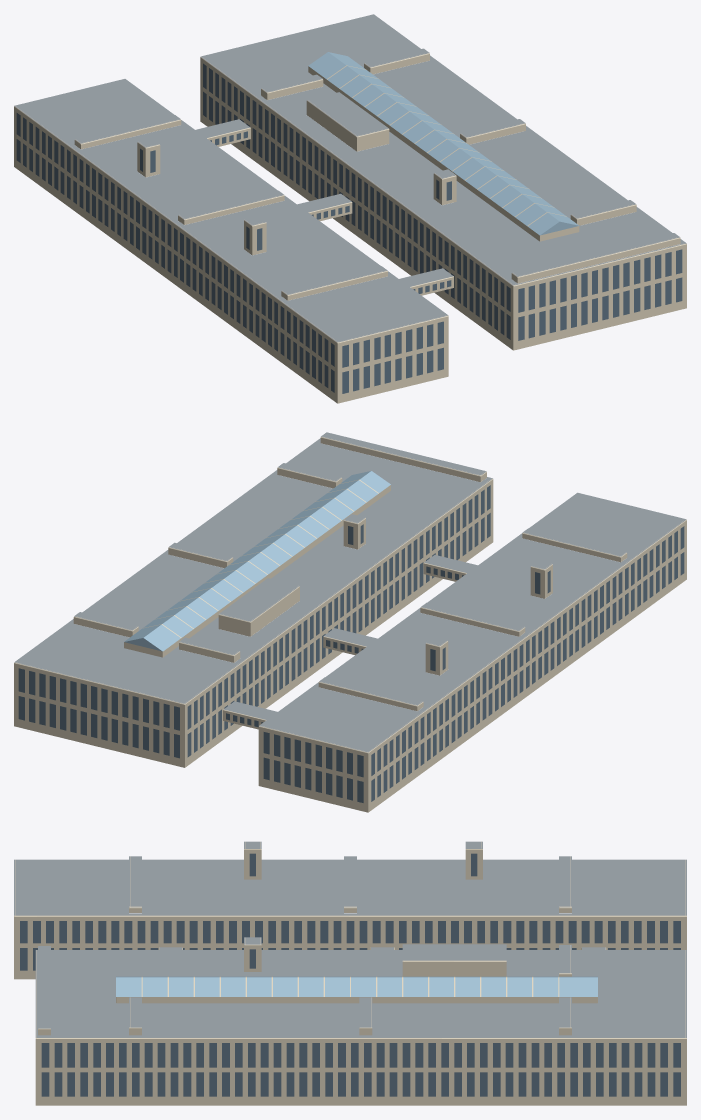
Rendered from nyc-brooklyn-army-terminal.glb.
The picture shows the model from 3 angles, top to bottom: view 1: azimuth 30°, elevation 25°; view 2: azimuth 150°, elevation 25°; view 3: azimuth 270°, elevation 25°; orthographic projection. The views are drawn at different scales.
Parts seen in each view (by area): view 1: Brooklyn Army Terminal; view 2: Brooklyn Army Terminal; view 3: Brooklyn Army Terminal.
Part boxes in pixels (bbox=[...]): Brooklyn Army Terminal: bbox=[14, 14, 686, 403]; Brooklyn Army Terminal: bbox=[14, 432, 686, 812]; Brooklyn Army Terminal: bbox=[14, 841, 686, 1105].
Bounding box in the file's own units: 199 × 48.3 × 310.
